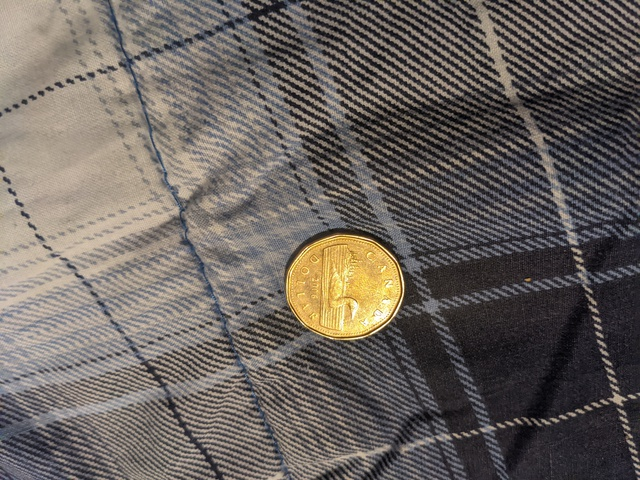loonie: (278, 223, 410, 342)
